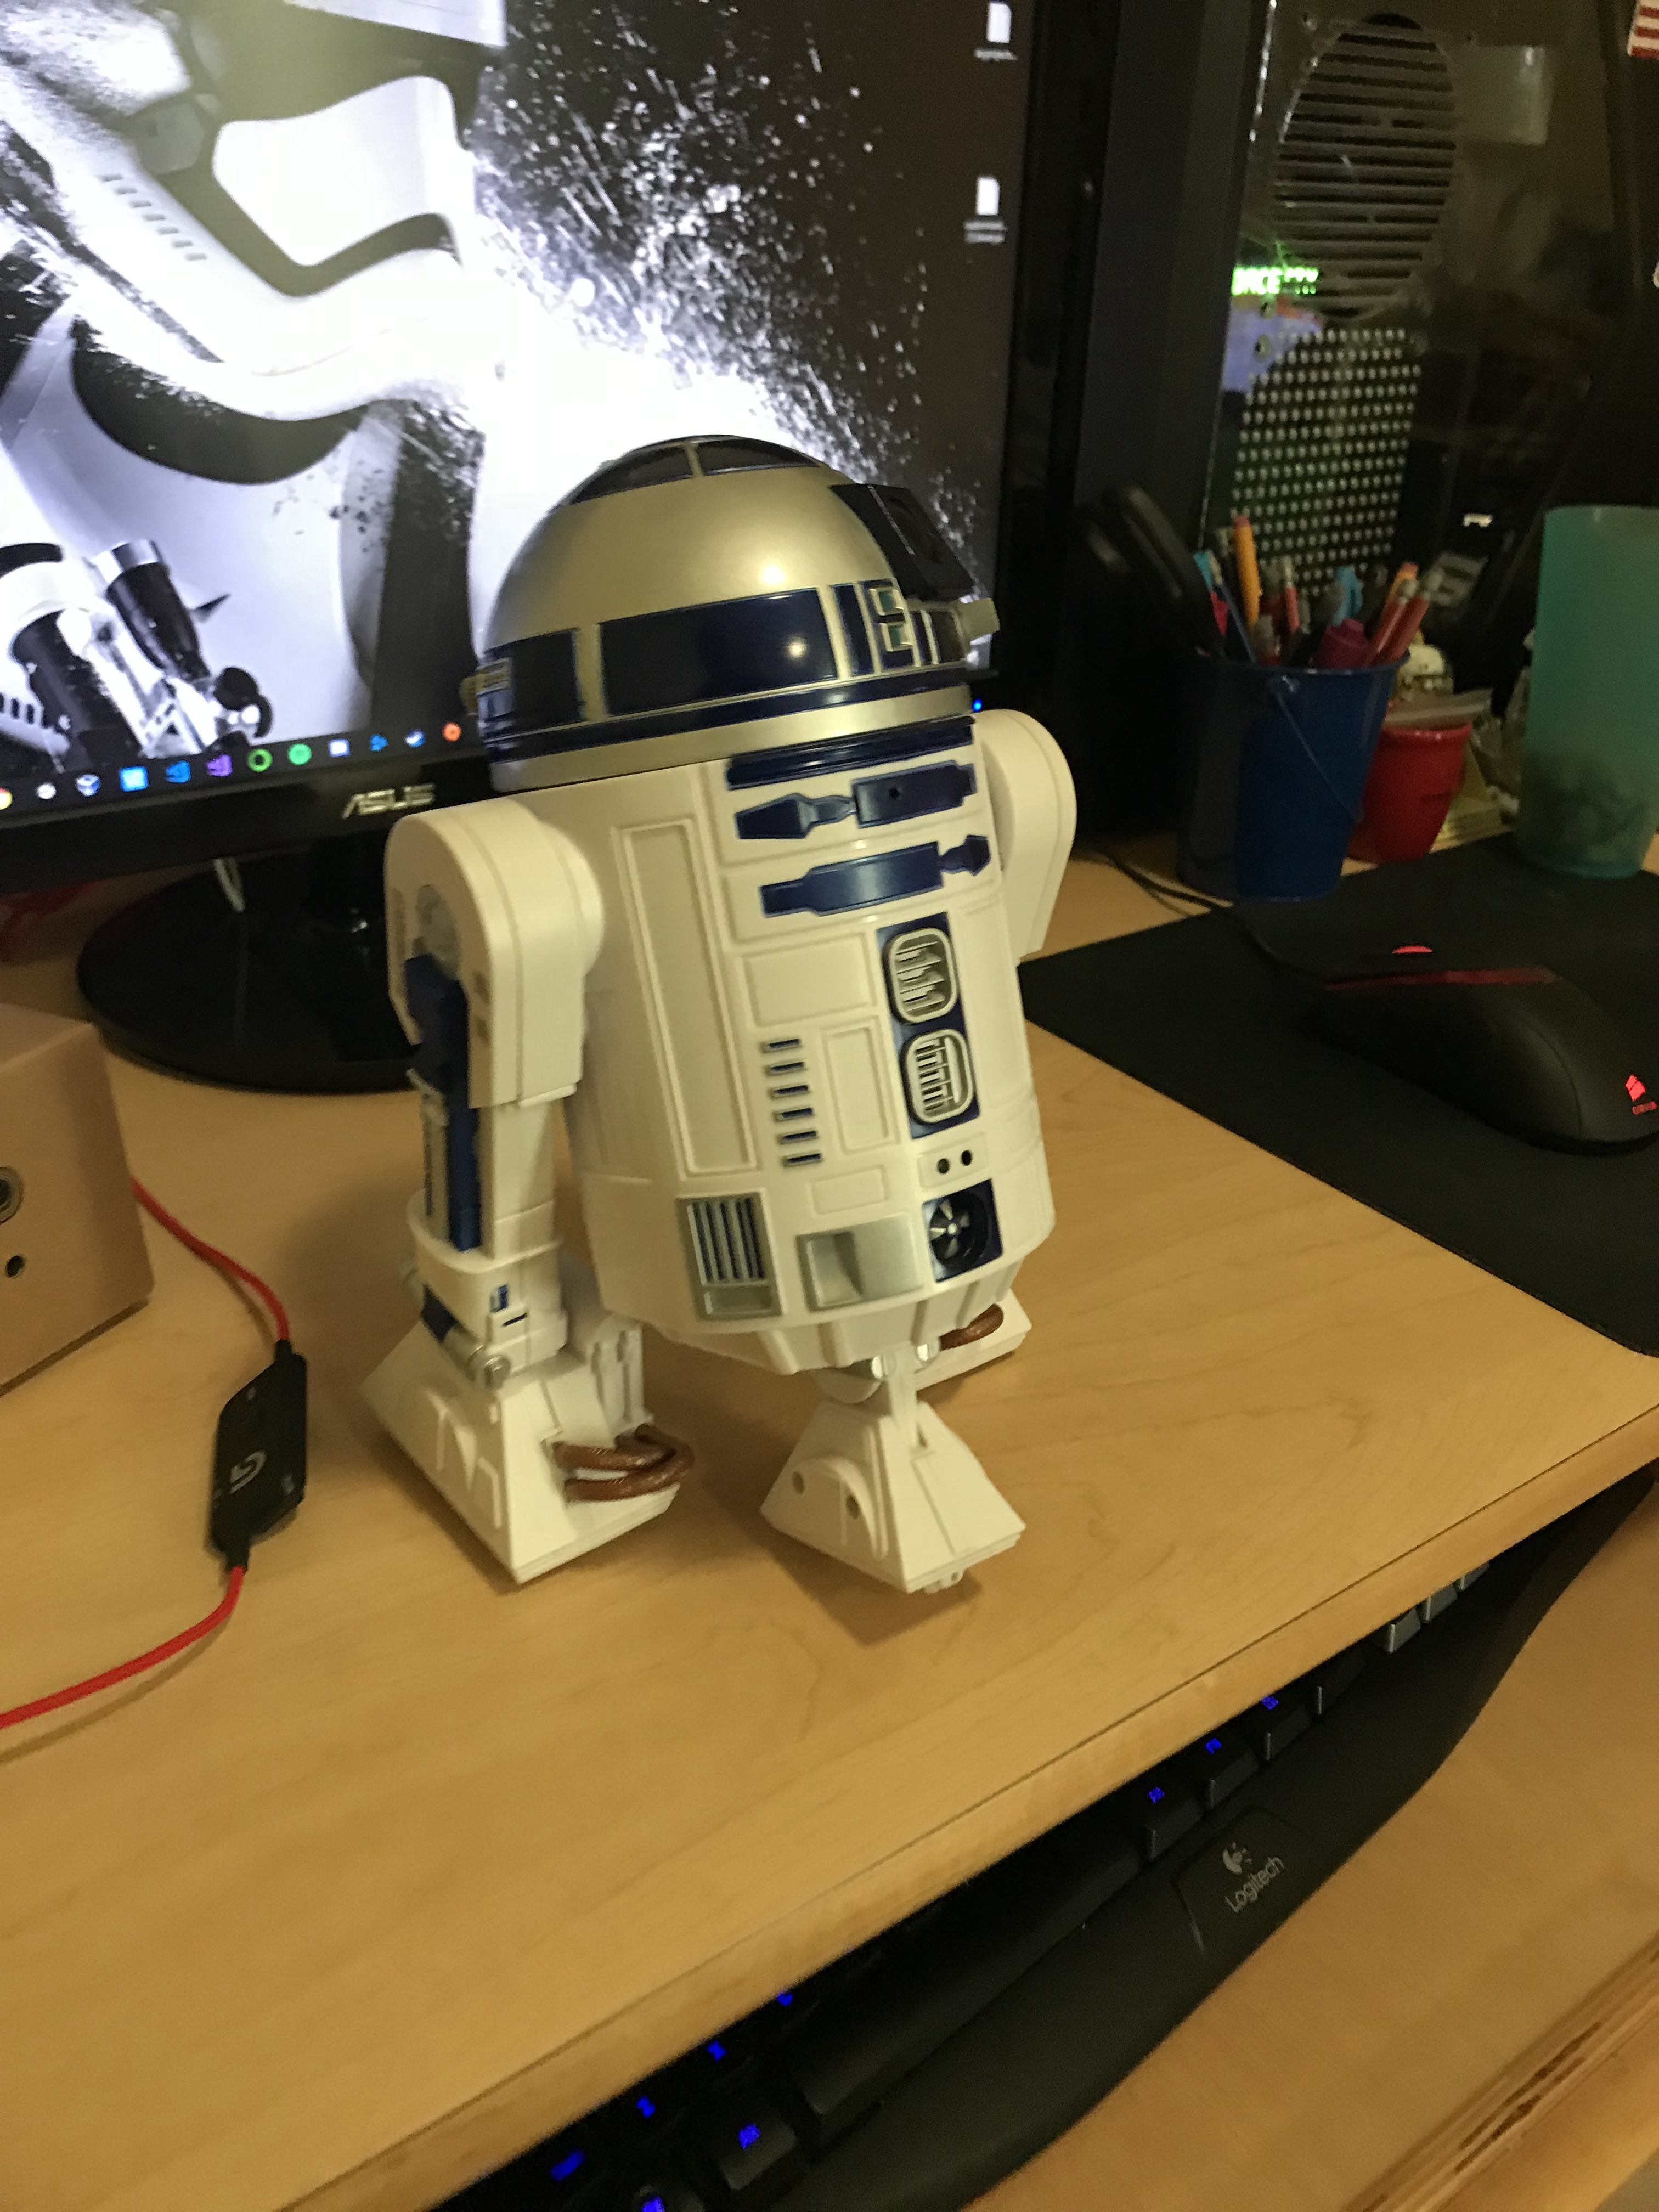r2d2: (359, 430, 1080, 1590)
